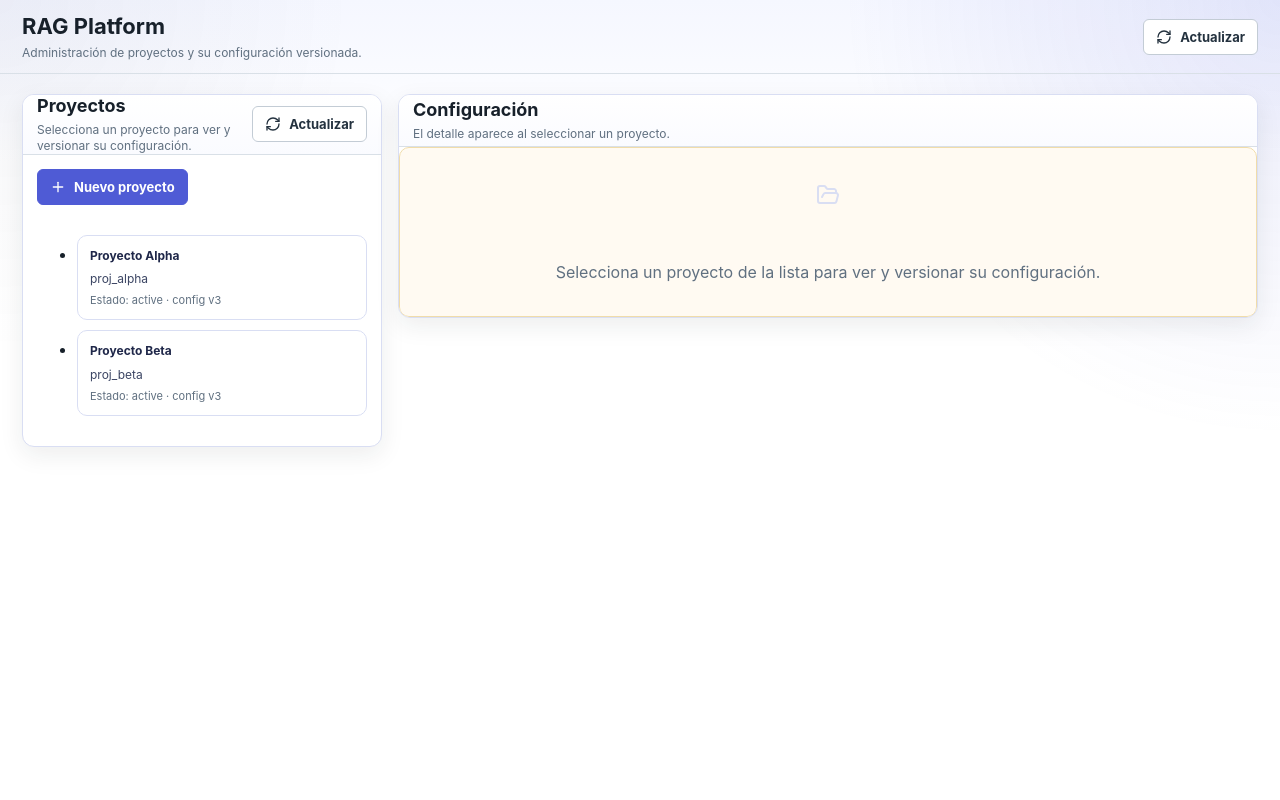
Test: ProjectWorkspace › renderiza proyectos y carga la configuración al seleccionar uno
Click the button "Proyecto Beta proj_beta Estado: active · config v3". click: click(131, 351)
box: [77,330,367,416]
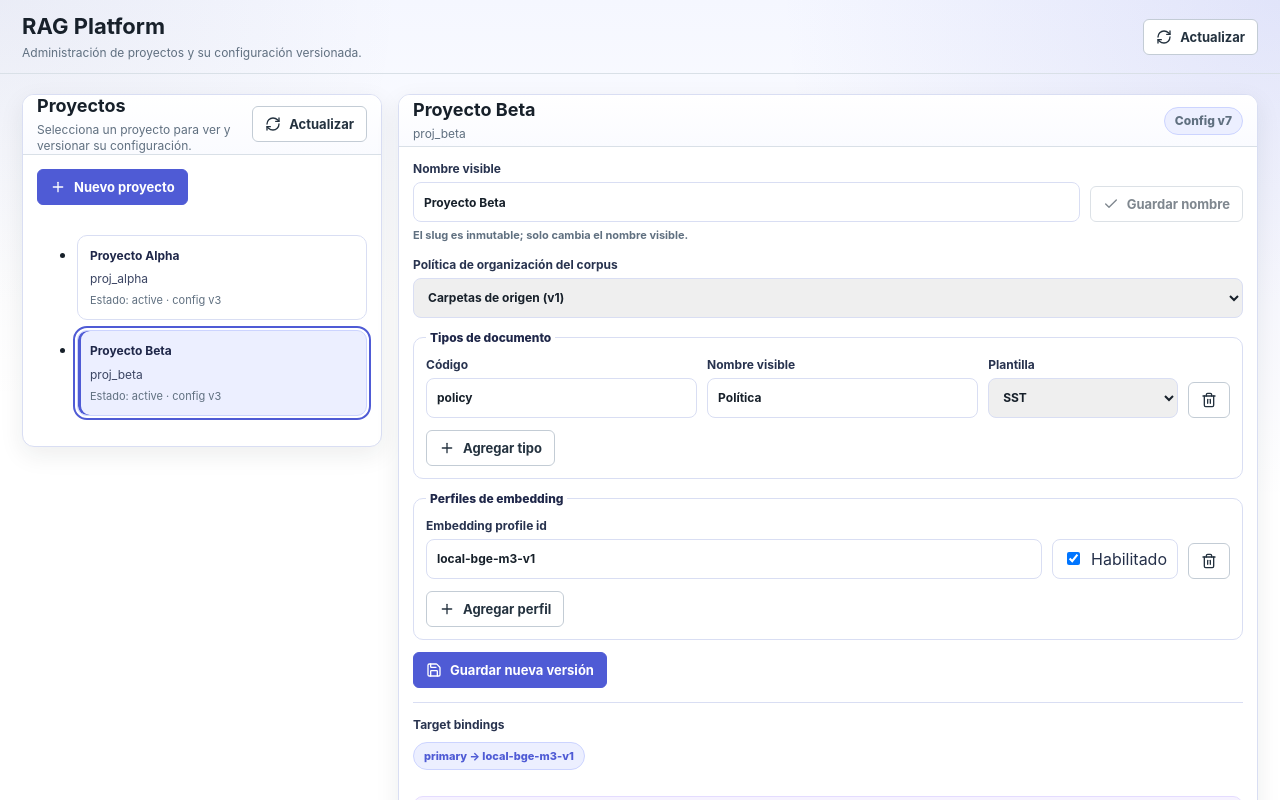
Now the text "Config v7" is shown, box [1164,106,1243,134]
